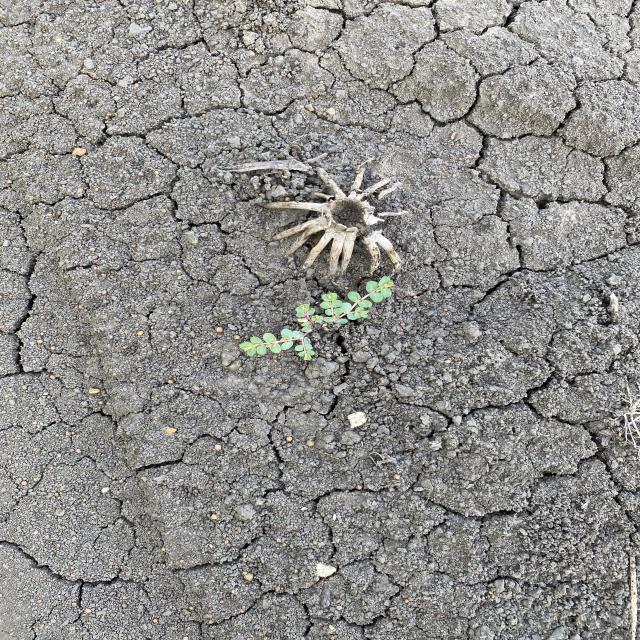SpottedSpurge: (237, 274, 398, 364)
